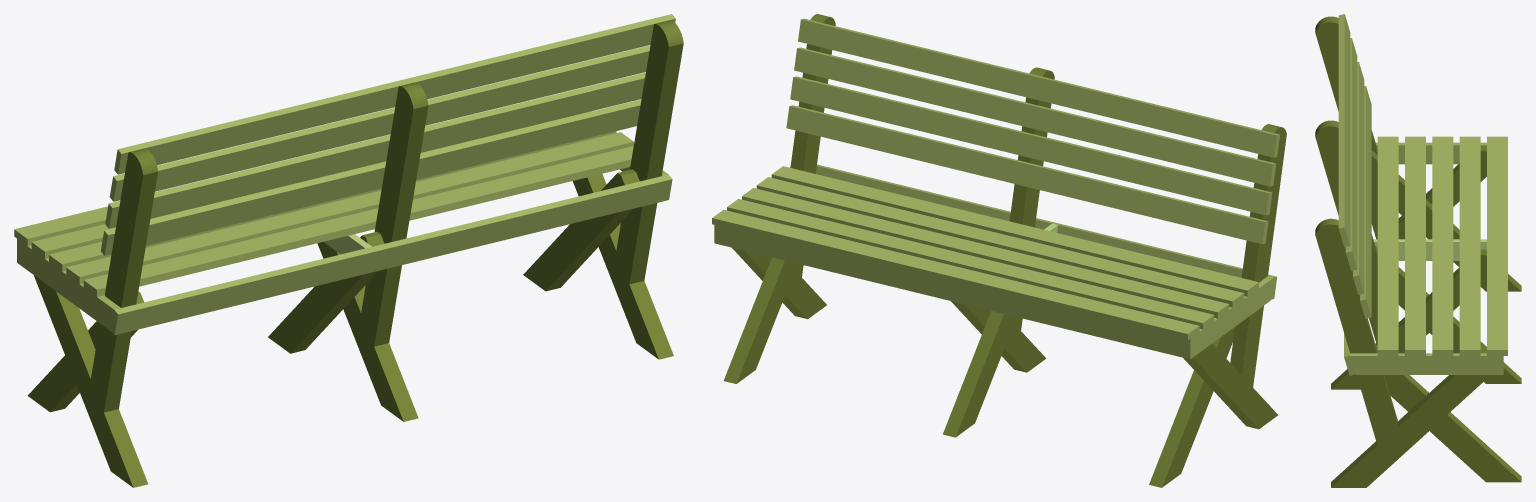
3 renders of one model, left to right at view 1: azimuth 30°, elevation 25°; view 2: azimuth 150°, elevation 25°; view 3: azimuth 270°, elevation 25°, orthographic. The views are drawn at different scales.
Parts seen in each view (by area): view 1: mesh3_mesh3-geometry, mesh37_mesh37-geometry, mesh39_mesh39-geometry, mesh43_mesh43-geometry, mesh41_mesh41-geometry, mesh35_mesh35-geometry, mesh33_mesh33-geometry, mesh15_mesh15-geometry, mesh23_mesh23-geometry, mesh11_mesh11-geometry, mesh13_mesh13-geometry, mesh45_mesh45-geometry (+8 smaller); view 2: mesh41_mesh41-geometry, mesh43_mesh43-geometry, mesh37_mesh37-geometry, mesh39_mesh39-geometry, mesh5_mesh5-geometry, mesh27_mesh27-geometry, mesh33_mesh33-geometry, mesh29_mesh29-geometry, mesh31_mesh31-geometry, mesh35_mesh35-geometry, mesh3_mesh3-geometry, mesh15_mesh15-geometry (+9 smaller); view 3: mesh11_mesh11-geometry, mesh29_mesh29-geometry, mesh31_mesh31-geometry, mesh35_mesh35-geometry, mesh1_mesh1-geometry, mesh27_mesh27-geometry, mesh33_mesh33-geometry, mesh45_mesh45-geometry, mesh7_mesh7-geometry, mesh37_mesh37-geometry, mesh23_mesh23-geometry, mesh39_mesh39-geometry (+9 smaller).
Part boxes in pixels (bbox=[...]): mesh3_mesh3-geometry: bbox=[111, 174, 672, 334]; mesh37_mesh37-geometry: bbox=[114, 14, 675, 174]; mesh39_mesh39-geometry: bbox=[109, 45, 650, 201]; mesh43_mesh43-geometry: bbox=[101, 99, 641, 255]; mesh41_mesh41-geometry: bbox=[105, 72, 645, 228]; mesh35_mesh35-geometry: bbox=[83, 146, 633, 296]; mesh33_mesh33-geometry: bbox=[66, 132, 633, 284]; mesh15_mesh15-geometry: bbox=[90, 148, 158, 412]; mesh23_mesh23-geometry: bbox=[361, 82, 428, 346]; mesh11_mesh11-geometry: bbox=[616, 20, 683, 284]; mesh13_mesh13-geometry: bbox=[33, 275, 147, 487]; mesh45_mesh45-geometry: bbox=[523, 169, 639, 291]; mesh41_mesh41-geometry: bbox=[790, 76, 1272, 215]; mesh43_mesh43-geometry: bbox=[786, 105, 1268, 244]; mesh37_mesh37-geometry: bbox=[798, 18, 1279, 157]; mesh39_mesh39-geometry: bbox=[794, 47, 1276, 186]; mesh5_mesh5-geometry: bbox=[714, 225, 1193, 359]; mesh27_mesh27-geometry: bbox=[712, 209, 1199, 340]; mesh33_mesh33-geometry: bbox=[756, 177, 1244, 307]; mesh29_mesh29-geometry: bbox=[727, 199, 1214, 329]; mesh31_mesh31-geometry: bbox=[742, 188, 1229, 318]; mesh35_mesh35-geometry: bbox=[771, 166, 1258, 296]; mesh3_mesh3-geometry: bbox=[815, 164, 1276, 299]; mesh15_mesh15-geometry: bbox=[1230, 124, 1286, 386]; mesh11_mesh11-geometry: bbox=[1315, 218, 1397, 445]; mesh29_mesh29-geometry: bbox=[1459, 136, 1480, 355]; mesh31_mesh31-geometry: bbox=[1432, 136, 1453, 355]; mesh35_mesh35-geometry: bbox=[1377, 136, 1398, 355]; mesh1_mesh1-geometry: bbox=[1331, 347, 1490, 487]; mesh27_mesh27-geometry: bbox=[1487, 136, 1507, 355]; mesh33_mesh33-geometry: bbox=[1405, 136, 1425, 355]; mesh45_mesh45-geometry: bbox=[1375, 344, 1521, 482]; mesh7_mesh7-geometry: bbox=[1350, 353, 1497, 374]; mesh37_mesh37-geometry: bbox=[1338, 14, 1350, 247]; mesh23_mesh23-geometry: bbox=[1315, 120, 1377, 345]; mesh39_mesh39-geometry: bbox=[1345, 38, 1357, 270].
Size of the model in its own units: 0.817 by 0.4705 by 0.3335.
